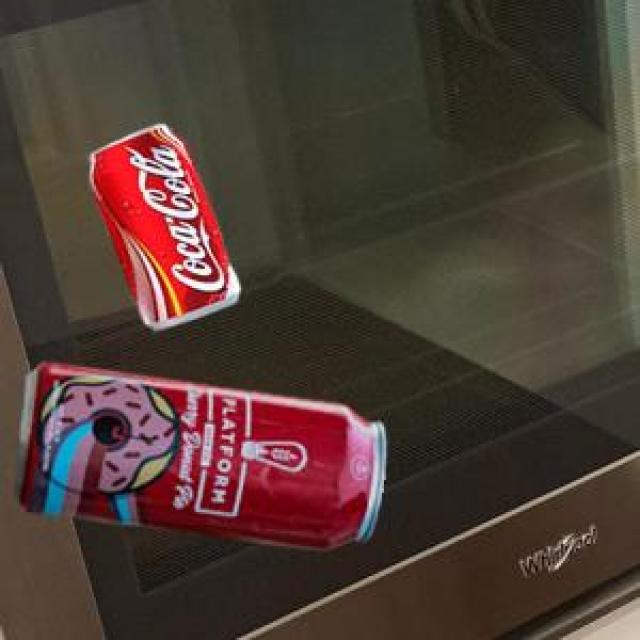Can: (14, 359, 383, 547), (86, 123, 236, 327)
